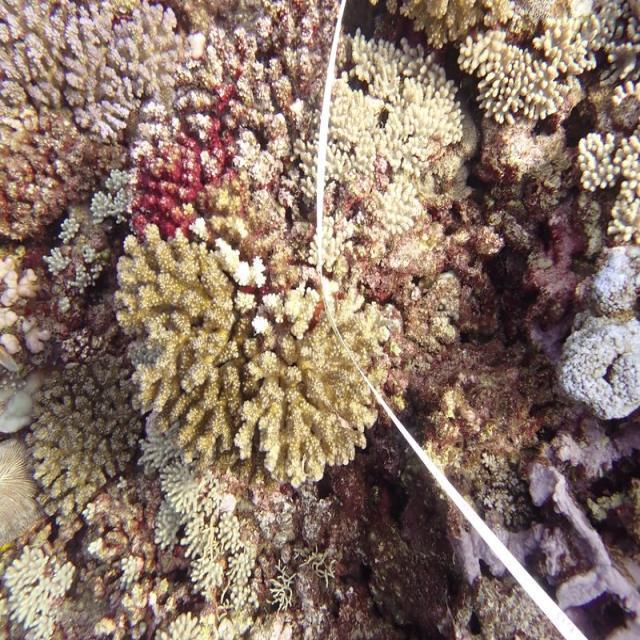Bleached Coral: (3, 520, 81, 640), (35, 207, 118, 311), (64, 165, 159, 238), (218, 238, 280, 335)
Healthy Coral: (156, 152, 206, 231)
